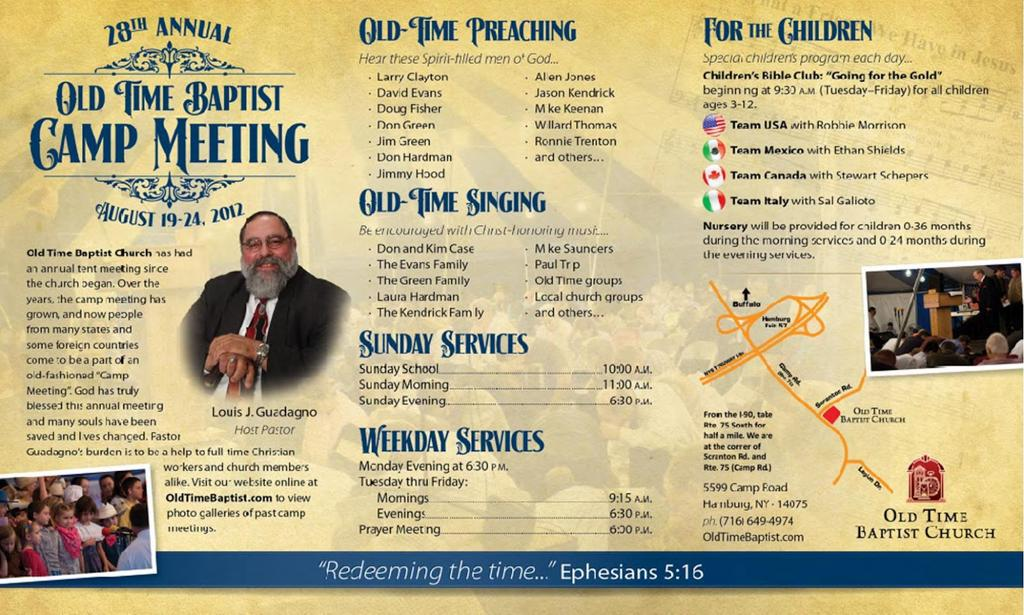face: (242, 216, 292, 284), (58, 511, 73, 528), (101, 479, 115, 496), (38, 507, 51, 525), (3, 536, 16, 554), (103, 515, 118, 529), (132, 482, 143, 499), (33, 528, 43, 544), (82, 511, 94, 524), (80, 481, 90, 495), (1, 501, 10, 516), (30, 480, 38, 491), (1011, 270, 1018, 279), (974, 274, 981, 282), (1000, 270, 1006, 278), (871, 309, 875, 315)
